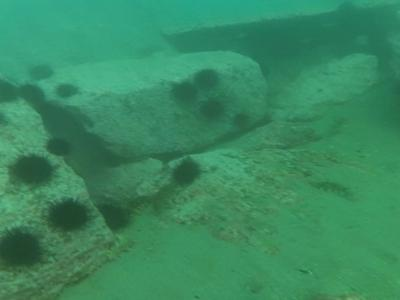holothurian: (308, 176, 357, 203), (63, 262, 99, 285), (99, 238, 131, 261)
urchin: (3, 226, 43, 274), (11, 153, 51, 188), (48, 197, 87, 232), (95, 200, 128, 230), (172, 156, 203, 186), (173, 81, 198, 103), (199, 101, 223, 119), (197, 69, 218, 88), (47, 139, 69, 157), (34, 66, 53, 81), (58, 86, 76, 97)
